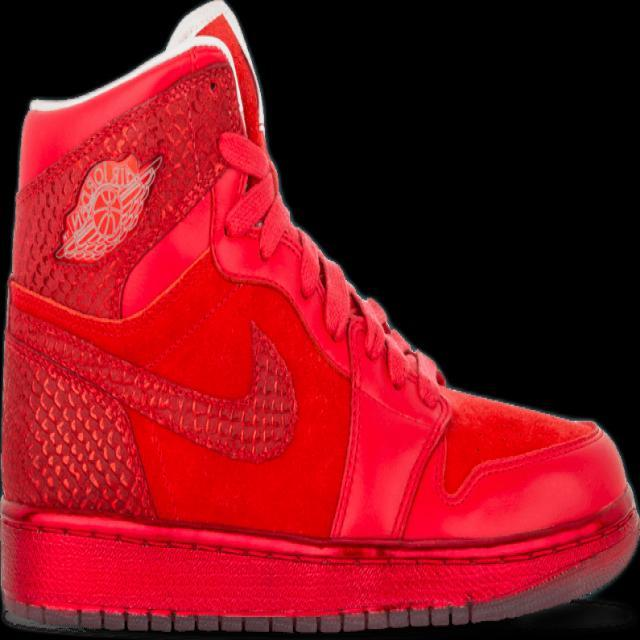J1_InsoleChar: (0, 0, 639, 636)
J1_ShoeLogo: (52, 151, 163, 264)
J1_StitchPattern: (3, 28, 298, 524), (0, 489, 638, 632), (212, 127, 447, 406), (12, 36, 252, 302), (2, 311, 300, 518), (5, 342, 157, 521), (1, 600, 474, 636)
